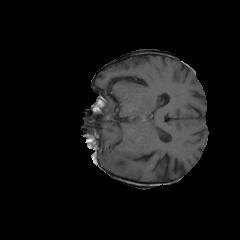glioma: (99, 130, 144, 178)
